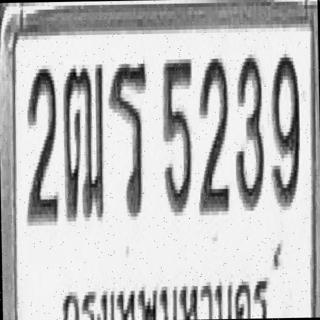A18: (61, 60, 106, 221)
A35: (107, 58, 149, 218)
N02: (23, 63, 58, 224), (196, 54, 230, 215)
N03: (232, 52, 264, 209)
N05: (161, 54, 194, 214)
N09: (269, 51, 301, 208)
